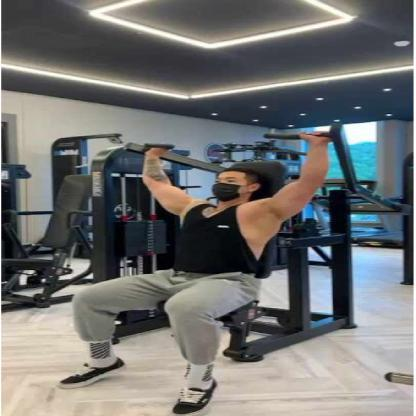shoulder press machine: (31, 117, 397, 416)
